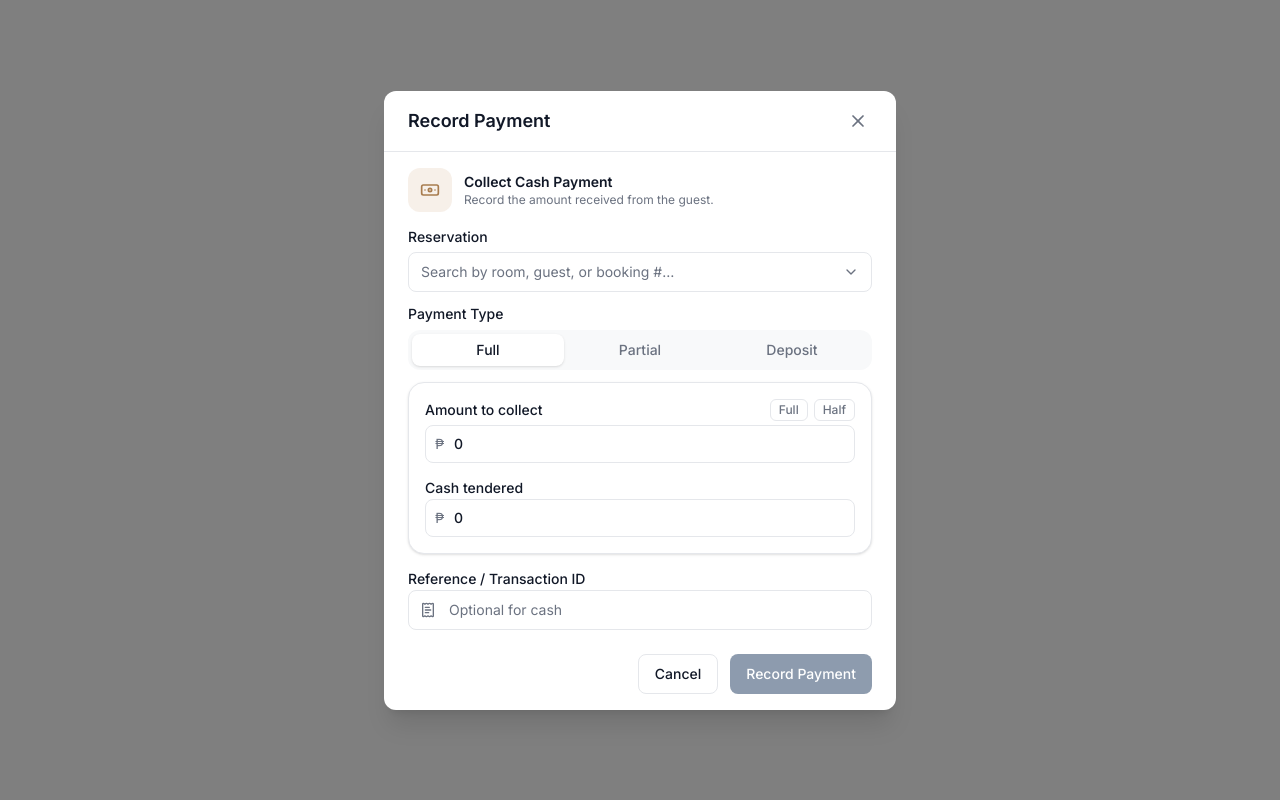
Test: PaymentModal › filters the reservation list by room number
Click the button "Search by room, guest, or booking #…" at (640, 272), box [408,252,872,292]
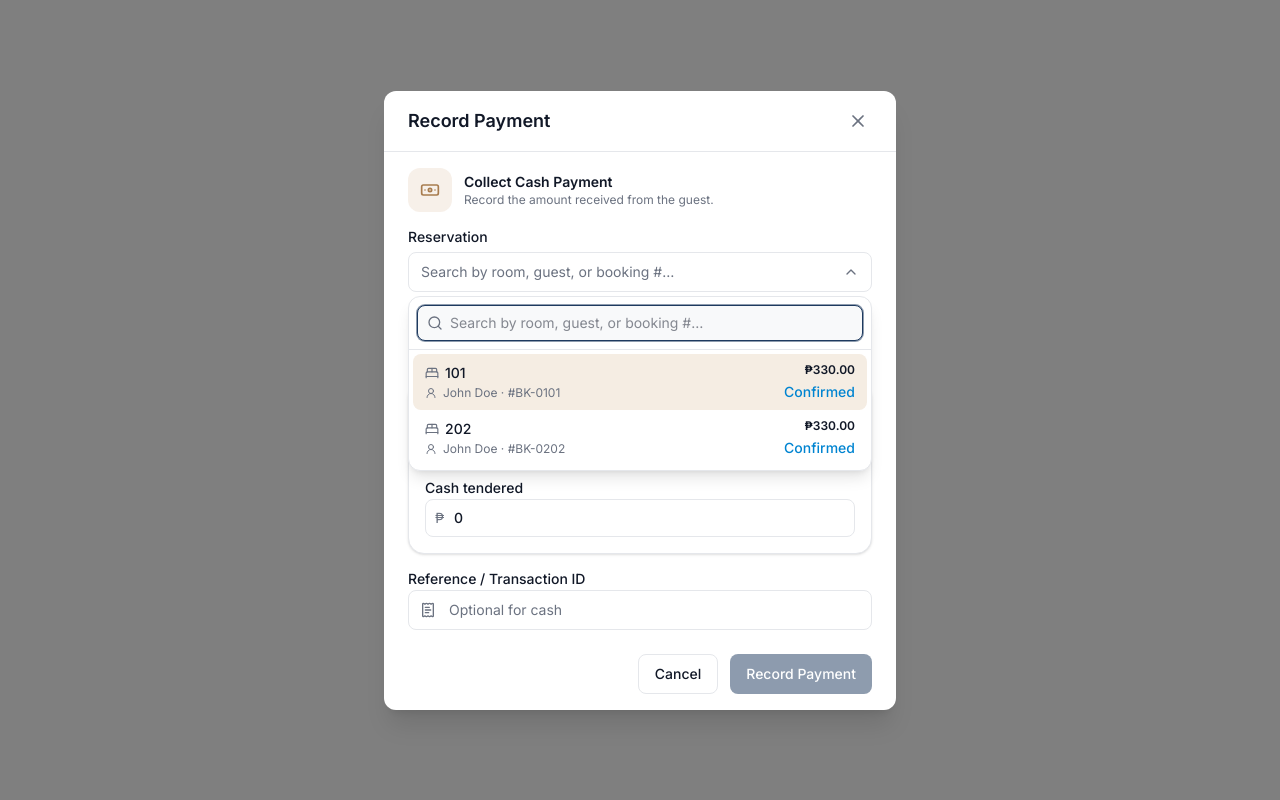
Type "202" into the field named "Search reservations" at (640, 322), box [417,304,863,340]
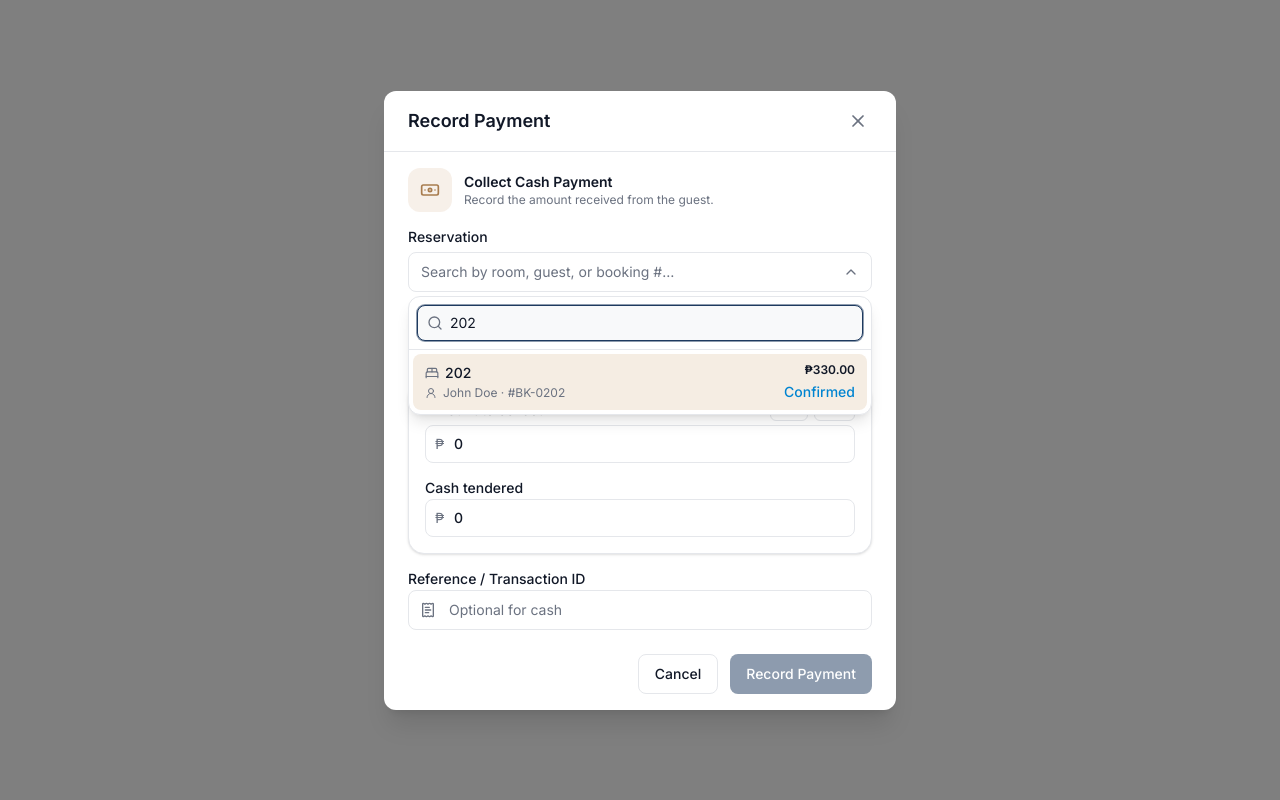
Check: the button "202 John Doe · #BK-0202 ₱330.00 Confirmed" is shown, box [413,354,867,410]
Check: the button "#BK-0101" is gone
